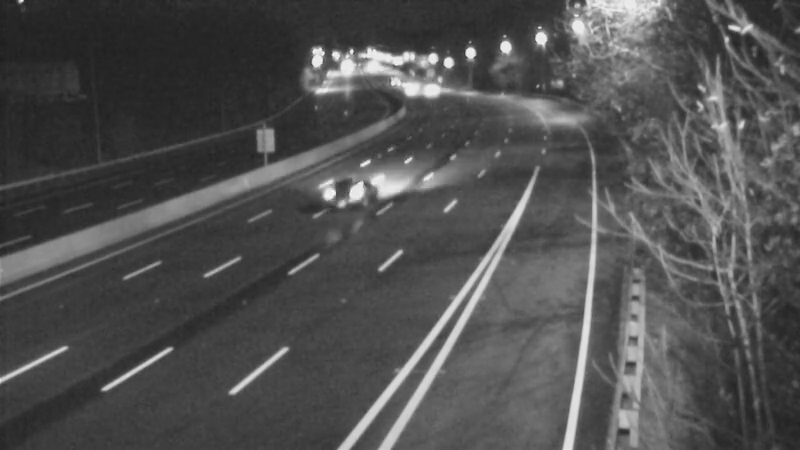vehicle: (301, 156, 381, 236), (367, 60, 417, 110), (385, 68, 435, 118), (406, 64, 456, 114)
